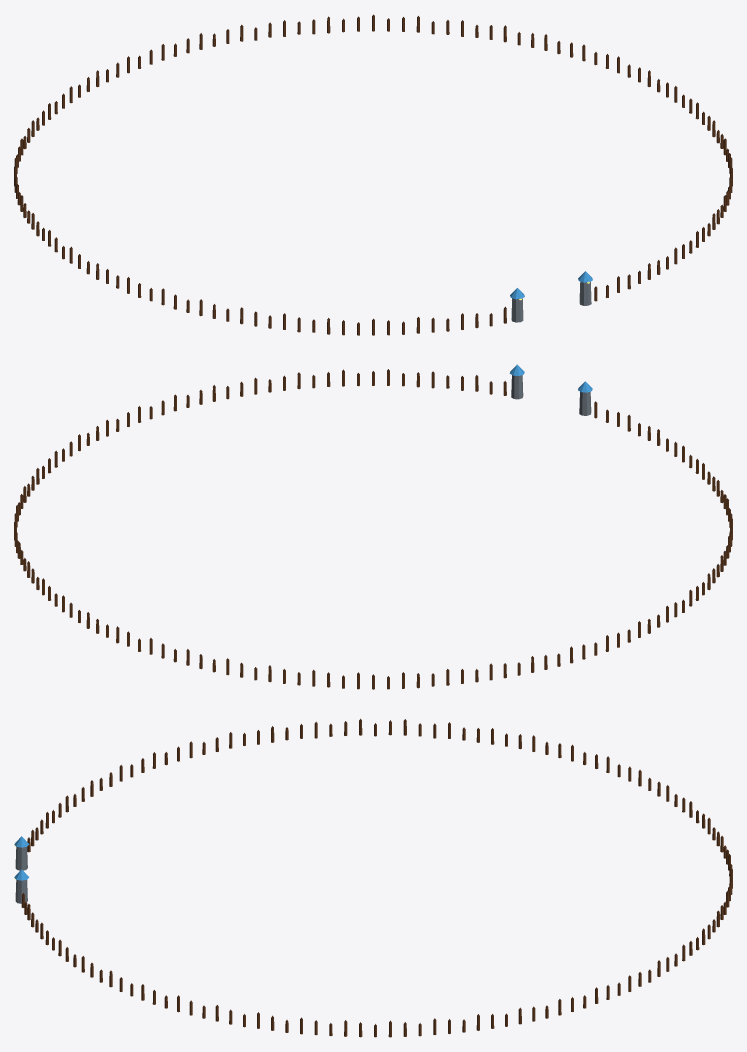
File: city_wall_t0.glb
3 views of the same model, one above another, from view 1: azimuth 30°, elevation 25°; view 2: azimuth 150°, elevation 25°; view 3: azimuth 270°, elevation 25° (orthographic).
Parts seen in each view (by area): view 1: city_wall_t0; view 2: city_wall_t0; view 3: city_wall_t0.
Part boxes in pixels (x1,y1,x2,y2): city_wall_t0: (14, 14, 732, 335); city_wall_t0: (14, 364, 732, 689); city_wall_t0: (14, 718, 732, 1037).
Bounding box in the file's own units: 92.4 × 4.96 × 92.92.
